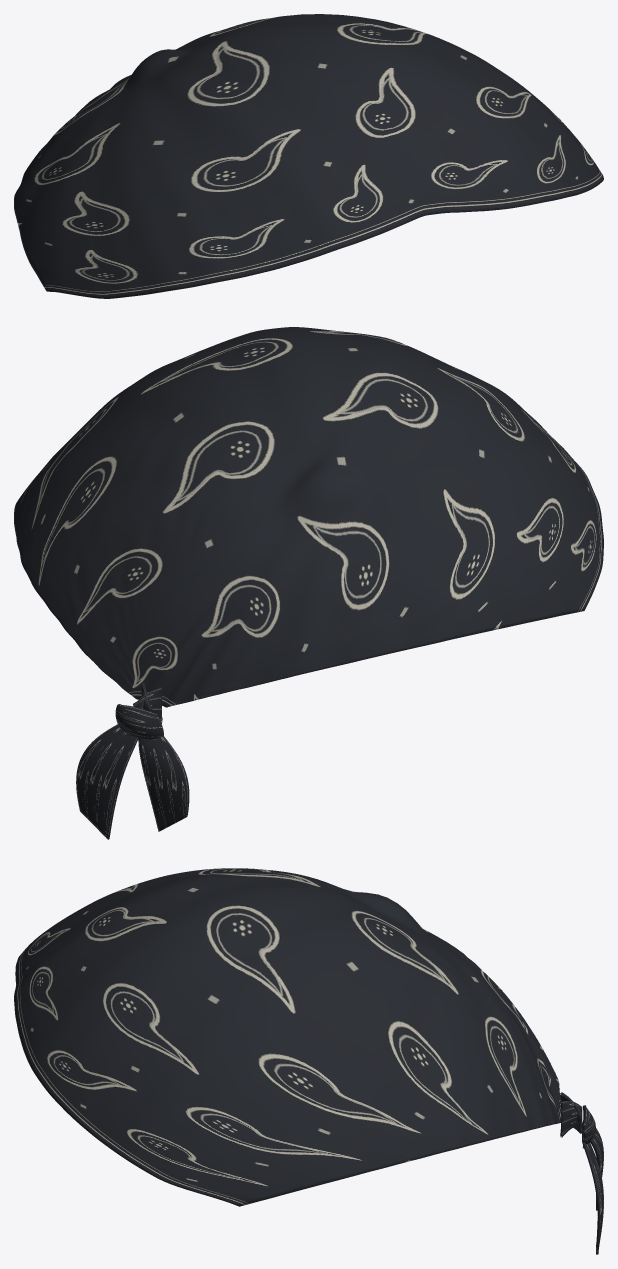
Rendered from Feminine-ponytail-bandana.glb.
The picture shows the model from 3 angles, top to bottom: view 1: azimuth 30°, elevation 25°; view 2: azimuth 150°, elevation 25°; view 3: azimuth 270°, elevation 25°; orthographic projection.
Visible parts, largest first — view 1: Bandana / triangular crown scarf; view 2: Bandana / triangular crown scarf, Bandana / hemmed tail 1, Bandana / hemmed tail -1, Bandana / rounded knot fold; view 3: Bandana / triangular crown scarf, Bandana / hemmed tail 1, Bandana / gathered fold 1.
Boxes of the visible parts, <box> form: Bandana / triangular crown scarf: <box>14,14,603,298</box>; Bandana / triangular crown scarf: <box>14,327,603,707</box>; Bandana / hemmed tail 1: <box>76,724,137,839</box>; Bandana / hemmed tail -1: <box>138,736,189,831</box>; Bandana / rounded knot fold: <box>115,704,163,739</box>; Bandana / triangular crown scarf: <box>14,868,562,1206</box>; Bandana / hemmed tail 1: <box>582,1131,603,1254</box>; Bandana / gathered fold 1: <box>560,1101,582,1137</box>.
Size of the model in its own units: 0.7241 by 0.4579 by 0.6982.
Materials: 1 (1 with a texture image).
